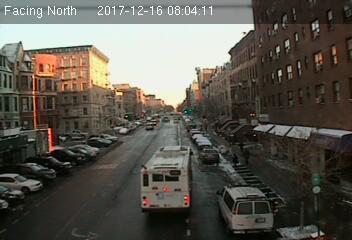bus: (138, 146, 192, 213)
car: (201, 149, 220, 163)
pedestrian: (243, 148, 251, 167)
police: (217, 181, 277, 236)
